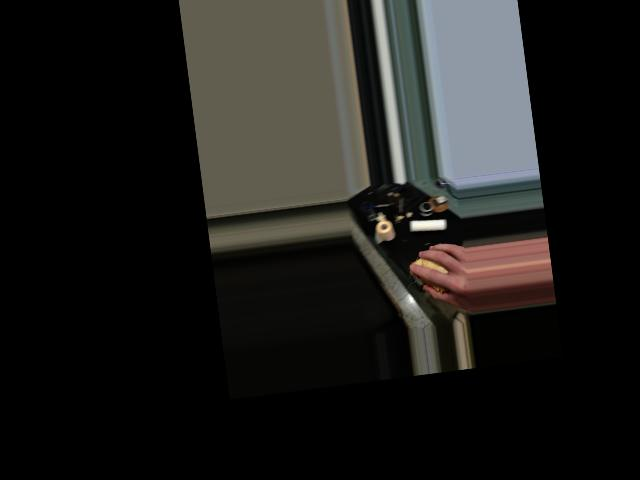onion: (409, 250, 458, 297)
